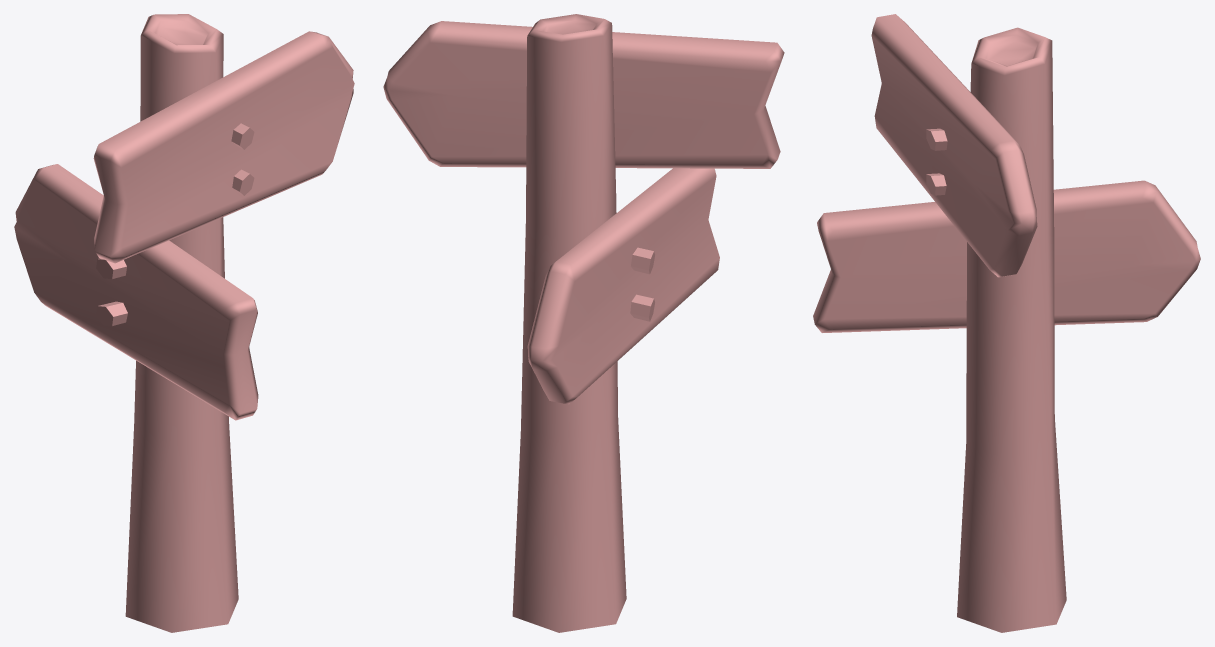
Rendered from Sign_3.fbx.
The picture shows the model from 3 angles, left to right: view 1: azimuth 30°, elevation 25°; view 2: azimuth 150°, elevation 25°; view 3: azimuth 270°, elevation 25°; orthographic projection. The views are drawn at different scales.
Visible parts, largest first — view 1: Signs_3; view 2: Signs_3; view 3: Signs_3.
Part boxes in pixels (x1,y1,x2,y2): Signs_3: (14, 14, 354, 632); Signs_3: (383, 14, 784, 632); Signs_3: (813, 14, 1200, 632).
Bounding box in the file's own units: 78.74 × 135 × 83.87.
